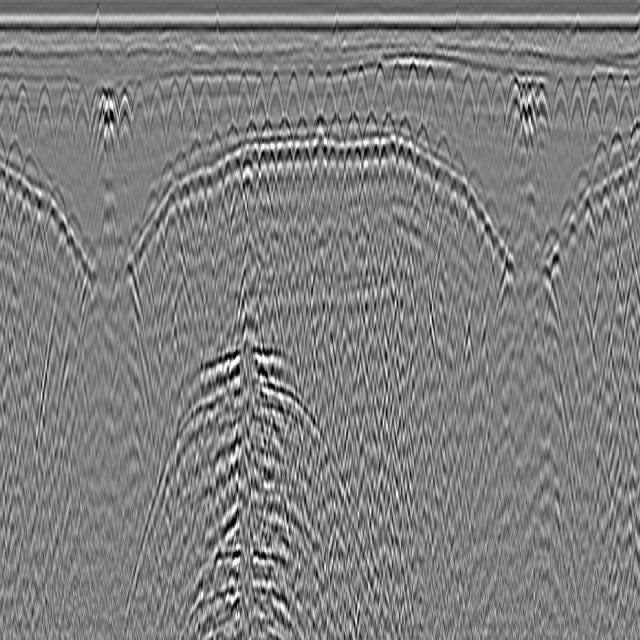hyperbola: (382, 46, 404, 135), (437, 49, 459, 138), (32, 81, 55, 163), (208, 68, 233, 138), (229, 55, 250, 138), (366, 45, 389, 120), (456, 52, 477, 130), (531, 71, 553, 145), (146, 68, 164, 158), (549, 71, 570, 148), (164, 78, 184, 158), (131, 68, 149, 156), (176, 64, 196, 142), (195, 61, 214, 143), (263, 49, 284, 122), (403, 46, 420, 135), (582, 61, 601, 140), (333, 55, 353, 130), (316, 55, 337, 125), (70, 84, 90, 156), (282, 52, 302, 122), (14, 71, 31, 153), (54, 84, 74, 153), (615, 71, 636, 136), (420, 68, 440, 135), (475, 55, 491, 135), (486, 68, 505, 135), (299, 59, 319, 122), (569, 74, 586, 146), (0, 61, 14, 143), (351, 59, 369, 122), (250, 68, 267, 130), (600, 68, 617, 130), (504, 81, 522, 135), (116, 93, 132, 148)
